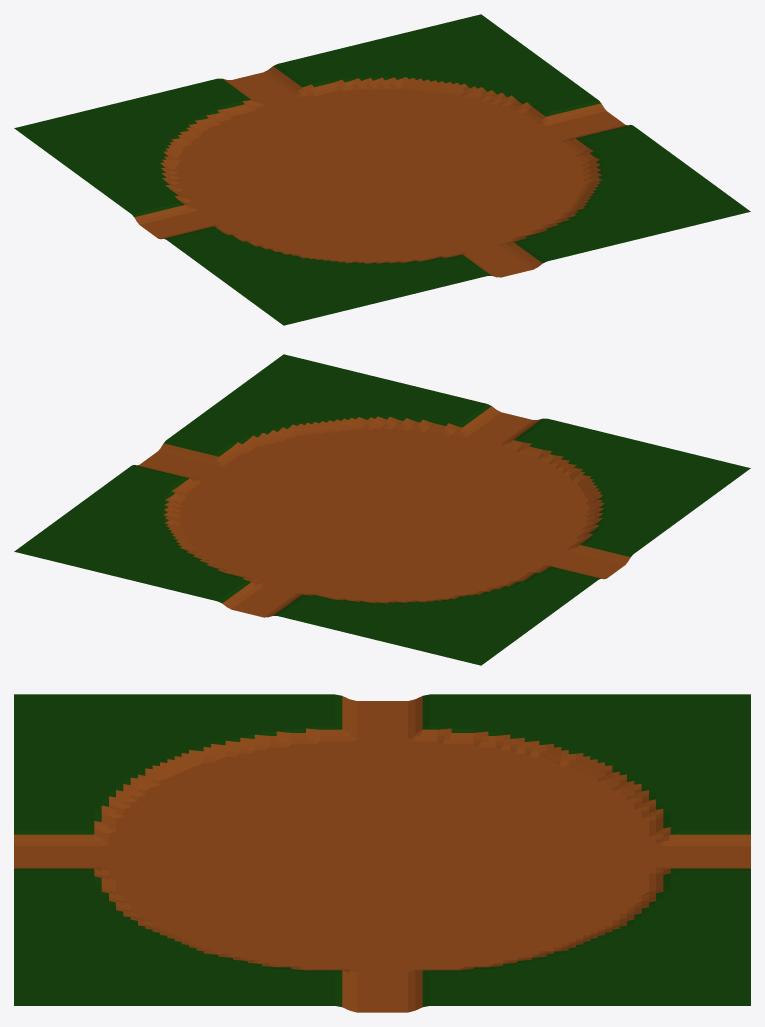
Rendered from Terrain_Part_Plane_14.fbx.
3 views of the same model, one above another, from view 1: azimuth 30°, elevation 25°; view 2: azimuth 150°, elevation 25°; view 3: azimuth 270°, elevation 25° (orthographic). The views are drawn at different scales.
Parts seen in each view (by area): view 1: Terrain_Part_Plane_14; view 2: Terrain_Part_Plane_14; view 3: Terrain_Part_Plane_14.
Boxes of the visible parts, x1=… form: Terrain_Part_Plane_14: x1=14, y1=14, x2=750, y2=325; Terrain_Part_Plane_14: x1=14, y1=354, x2=750, y2=665; Terrain_Part_Plane_14: x1=14, y1=694, x2=750, y2=1012.
Bounding box in the file's own units: 2000 × 20 × 2000.
